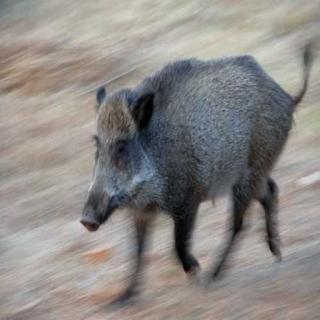Pig: (50, 20, 320, 295)
